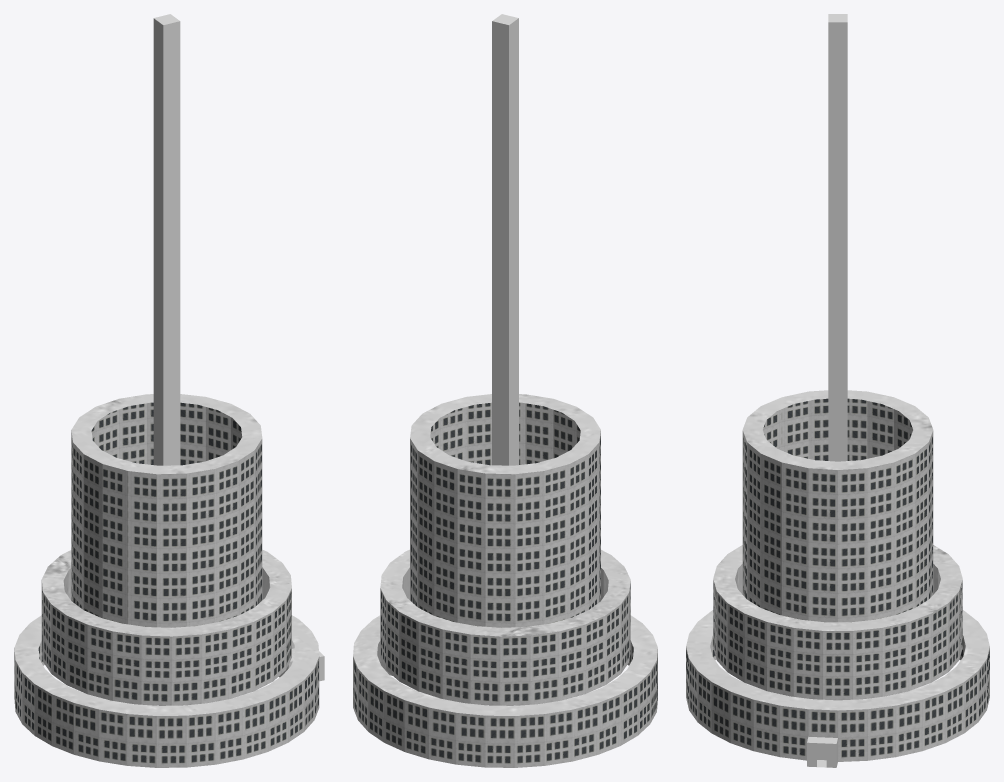
The model's file is EnergyVault_01.fbx.
3 views of the same model, side by side, from view 1: azimuth 30°, elevation 25°; view 2: azimuth 150°, elevation 25°; view 3: azimuth 270°, elevation 25° (orthographic).
Parts seen in each view (by area): view 1: HousesUp, HousesMiddle, HousesLow, SpireCrane; view 2: HousesUp, HousesMiddle, HousesLow, SpireCrane; view 3: HousesUp, HousesMiddle, HousesLow, SpireCrane, PotentialEnergy, VisitorCenter.
Part boxes in pixels (bbox=[...]): HousesUp: bbox=[71, 394, 262, 627]; HousesMiddle: bbox=[41, 549, 291, 705]; HousesLow: bbox=[14, 615, 319, 767]; SpireCrane: bbox=[153, 14, 180, 465]; HousesUp: bbox=[410, 394, 600, 627]; HousesMiddle: bbox=[380, 549, 630, 705]; HousesLow: bbox=[353, 615, 657, 767]; SpireCrane: bbox=[492, 14, 518, 465]; HousesUp: bbox=[742, 390, 933, 622]; HousesMiddle: bbox=[713, 545, 962, 700]; HousesLow: bbox=[686, 610, 989, 761]; SpireCrane: bbox=[828, 14, 847, 461]; PotentialEnergy: bbox=[838, 699, 867, 737]; VisitorCenter: bbox=[807, 736, 837, 767].
Bounding box in the file's own units: 209 × 494 × 200.
